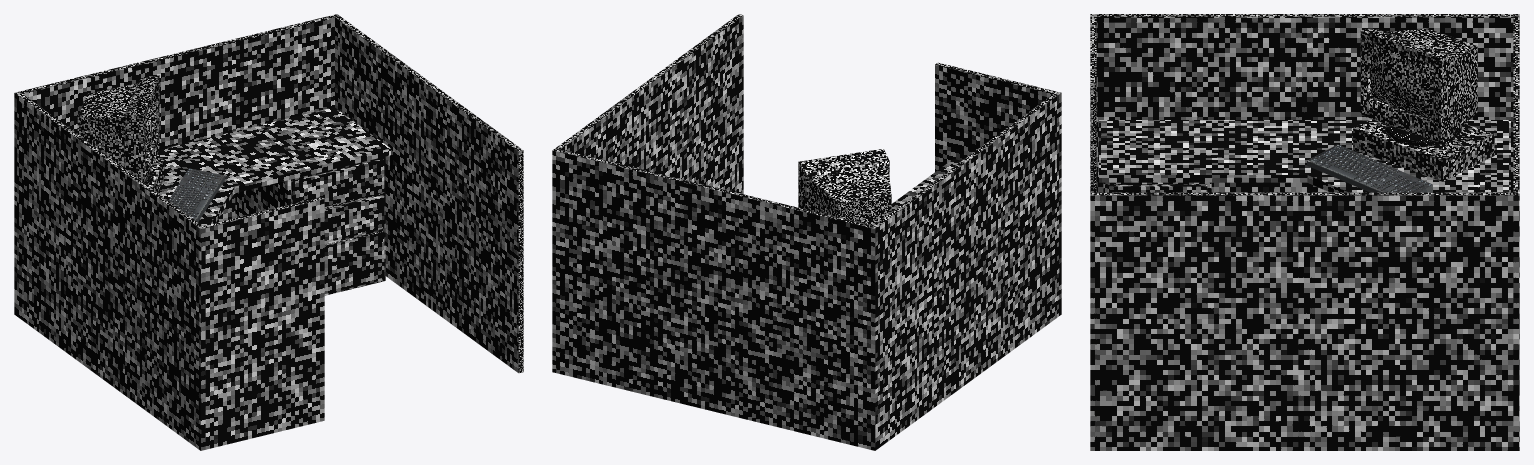
The model's file is cubicle.glb.
3 views of the same model, side by side, from view 1: azimuth 30°, elevation 25°; view 2: azimuth 150°, elevation 25°; view 3: azimuth 270°, elevation 25° (orthographic). The views are drawn at different scales.
Visible parts, largest first — view 1: Walls, Desk, monitor, keebord; view 2: Walls, monitor, Desk; view 3: Walls, Desk, monitor, keebord.
Part boxes in pixels (x1,y1,x2,y2): Walls: (14, 14, 523, 450); Desk: (156, 107, 390, 295); monitor: (77, 75, 164, 192); keebord: (168, 168, 225, 221); Walls: (552, 14, 1061, 450); monitor: (798, 148, 891, 225); Desk: (891, 159, 961, 211); Walls: (1090, 14, 1519, 450); Desk: (1099, 120, 1510, 192); monitor: (1353, 28, 1494, 181); keebord: (1307, 144, 1432, 192).
Size of the model in its own units: 1.98 by 1.39 by 1.98.
3 materials, 3 textured.
